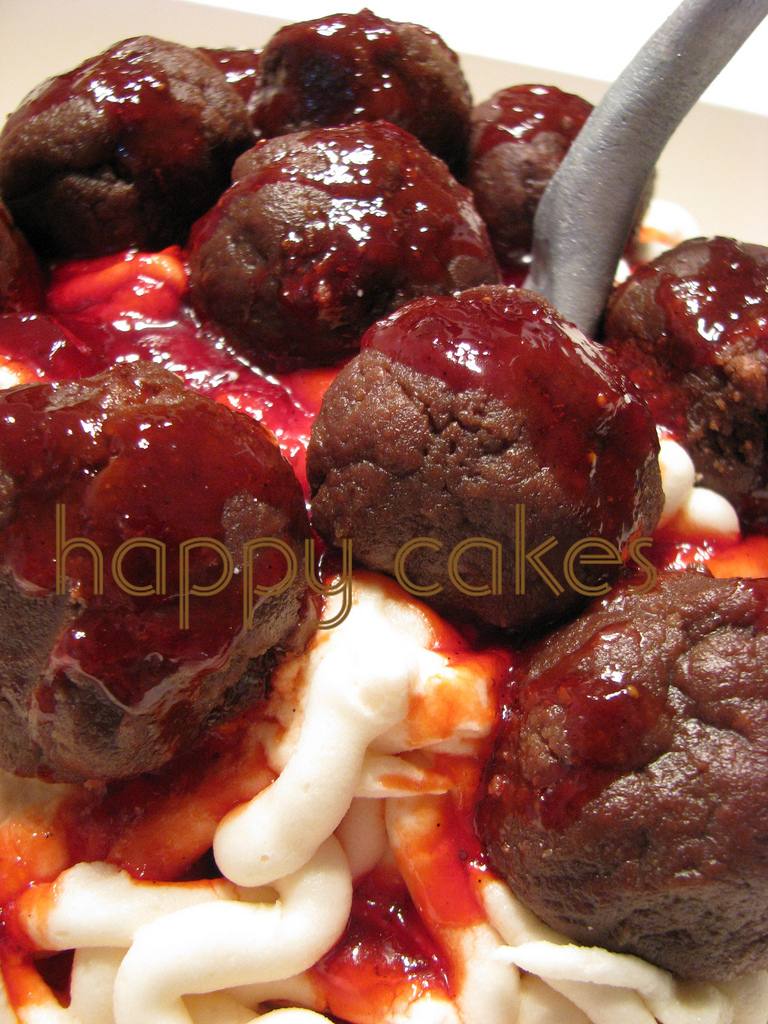meatballs: (11, 376, 306, 779), (307, 295, 653, 621), (489, 579, 768, 955), (198, 126, 492, 323), (4, 57, 262, 245), (604, 245, 768, 504), (264, 23, 482, 146)
